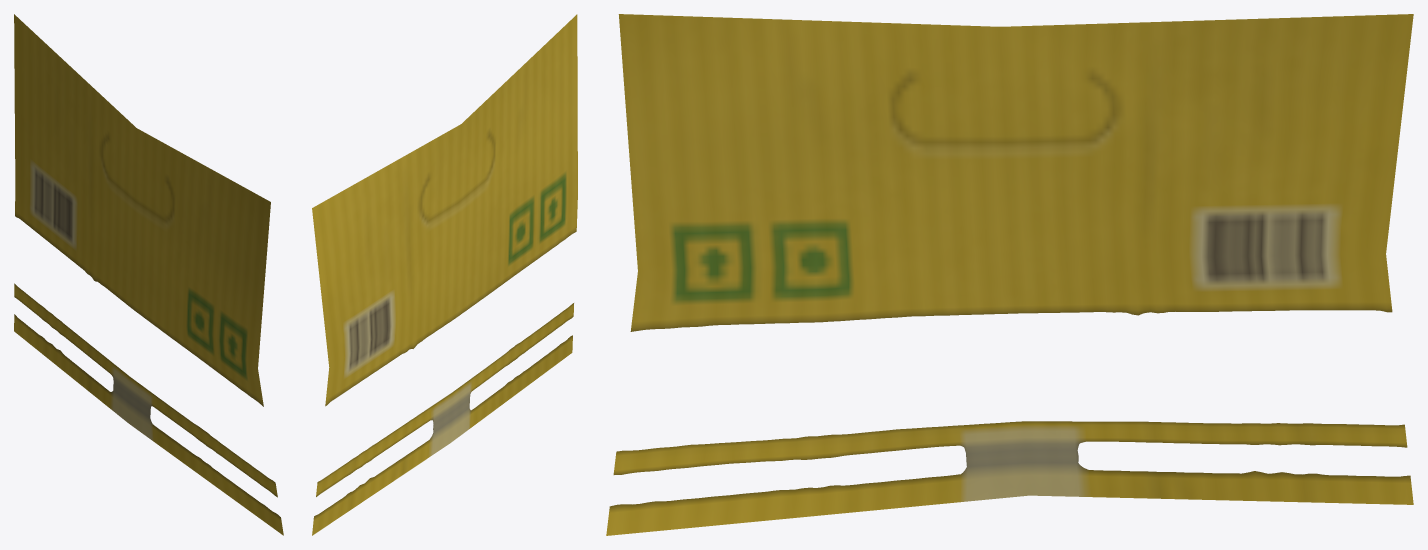
File: p_mesh_cucumberbox_part03.fbx
3 views of the same model, side by side, from view 1: azimuth 30°, elevation 25°; view 2: azimuth 150°, elevation 25°; view 3: azimuth 270°, elevation 25° (orthographic). The views are drawn at different scales.
Parts seen in each view (by area): view 1: p_destruct_cardboard_cucmber_part03; view 2: p_destruct_cardboard_cucmber_part03; view 3: p_destruct_cardboard_cucmber_part03.
Part boxes in pixels (x1,y1,x2,y2): p_destruct_cardboard_cucmber_part03: (14, 14, 283, 535); p_destruct_cardboard_cucmber_part03: (312, 14, 577, 535); p_destruct_cardboard_cucmber_part03: (606, 14, 1413, 535).
Size of the model in its own units: 0.1368 by 2.2 by 3.13.
